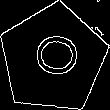O_W: (26, 35, 80, 83)
